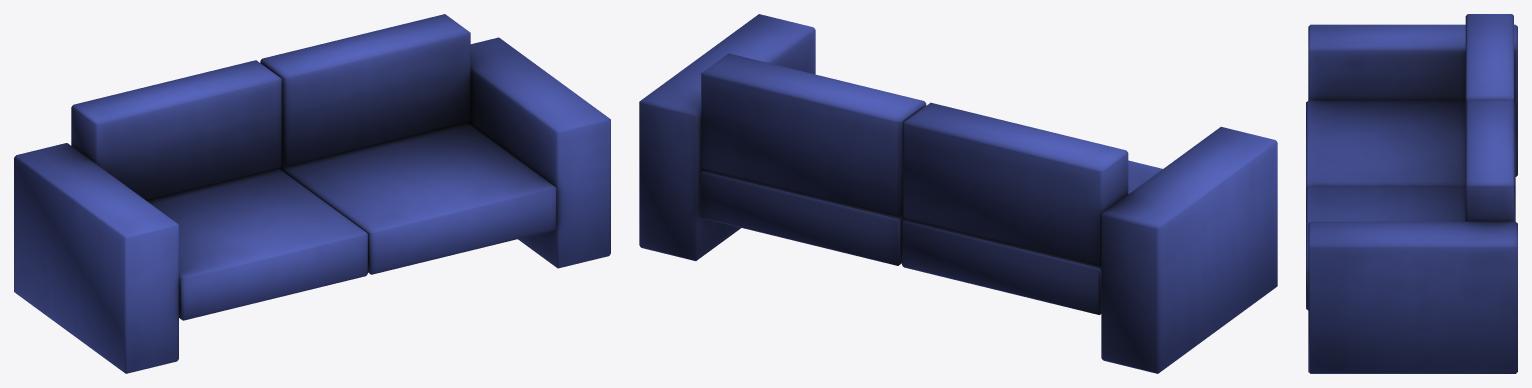
The model's file is sofa.fbx.
3 renders of one model, left to right at view 1: azimuth 30°, elevation 25°; view 2: azimuth 150°, elevation 25°; view 3: azimuth 270°, elevation 25°, orthographic. The views are drawn at different scales.
Parts seen in each view (by area): view 1: unwrapped:pCube15; view 2: unwrapped:pCube15; view 3: unwrapped:pCube15.
Part boxes in pixels (left/top/right/bottom): unwrapped:pCube15: left=14, top=14, right=610, bottom=373; unwrapped:pCube15: left=639, top=14, right=1277, bottom=373; unwrapped:pCube15: left=1306, top=14, right=1517, bottom=373.
Bounding box in the file's own units: 424 × 147 × 171.
